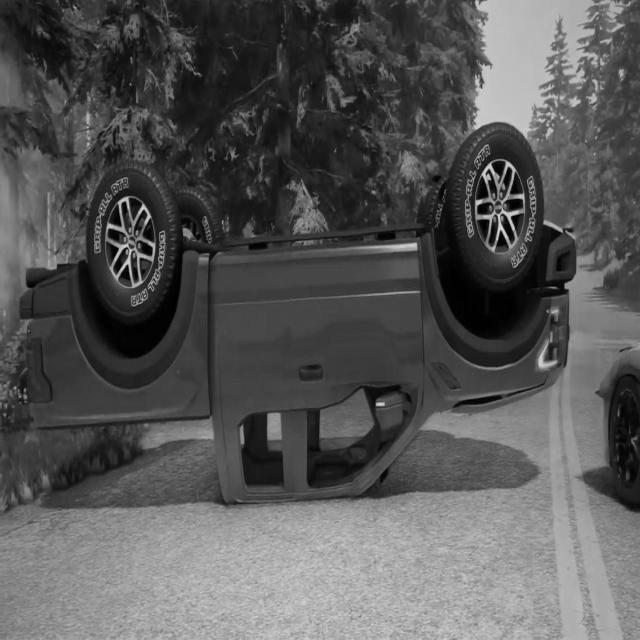single accident: (49, 137, 577, 484)
